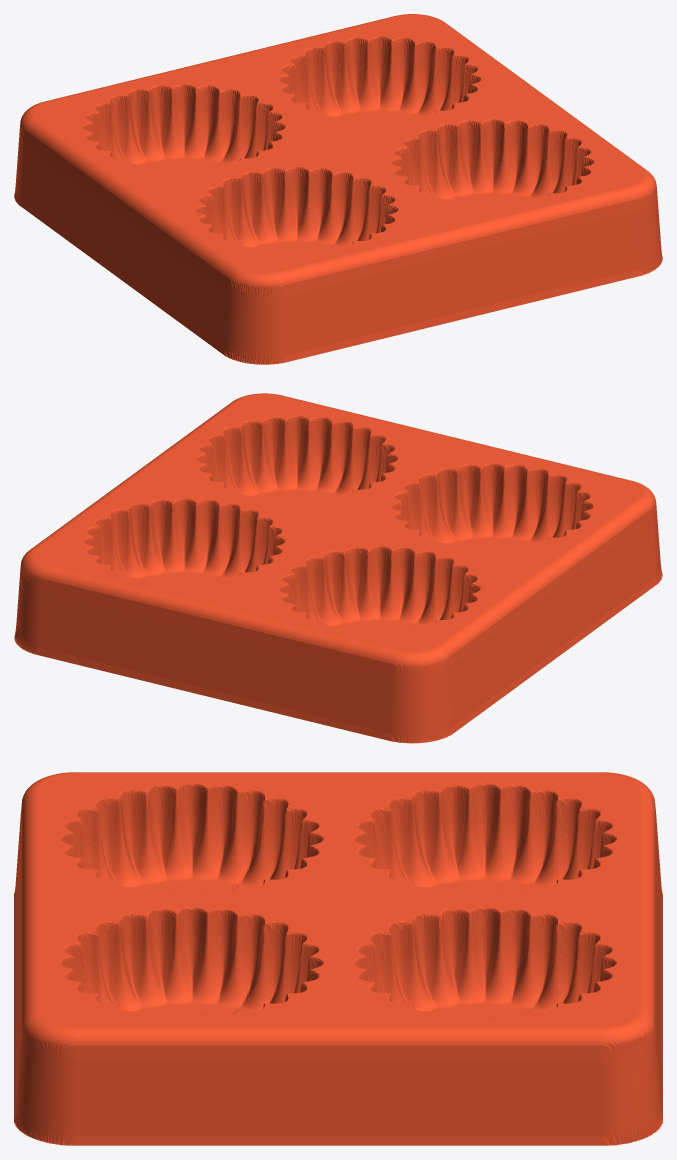
File: mold.glb
3 views of the same model, one above another, from view 1: azimuth 30°, elevation 25°; view 2: azimuth 150°, elevation 25°; view 3: azimuth 270°, elevation 25° (orthographic). The views are drawn at different scales.
Parts seen in each view (by area): view 1: geometry_0; view 2: geometry_0; view 3: geometry_0.
Boxes of the visible parts, x1,y1,x2,y2 form: geometry_0: (14,14,662,364); geometry_0: (14,393,662,743); geometry_0: (14,772,662,1145).
Size of the model in its own units: 0.0952 by 0.0175 by 0.0952.
